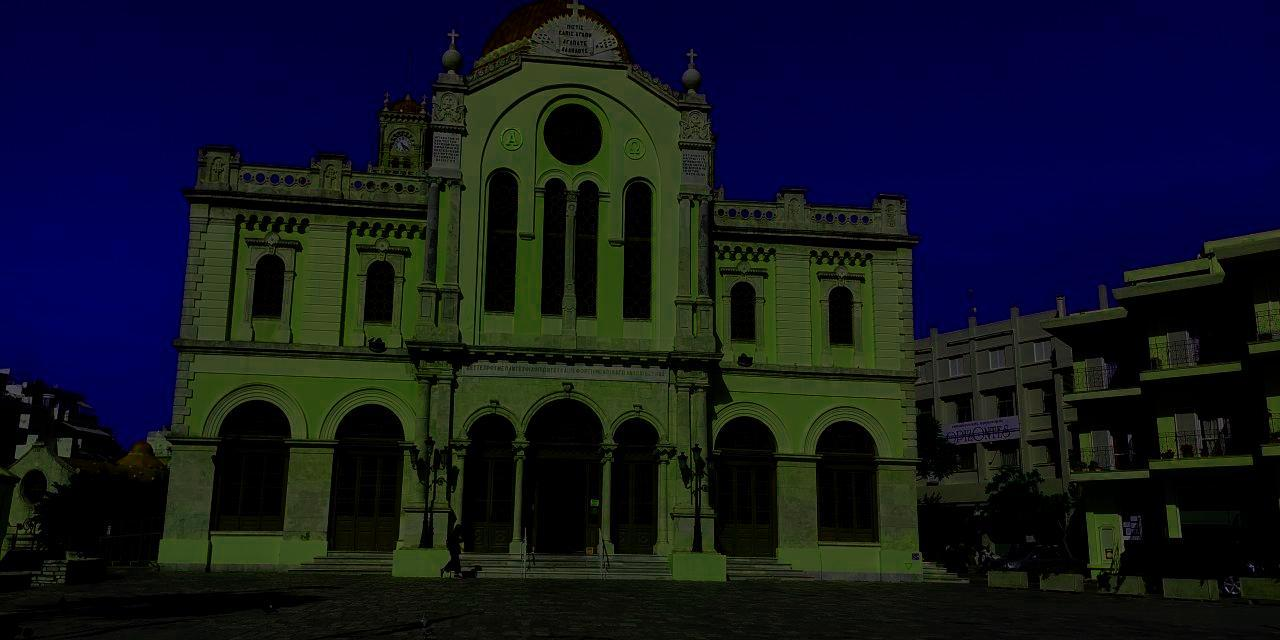Agios Minas: (150, 1, 926, 591)
